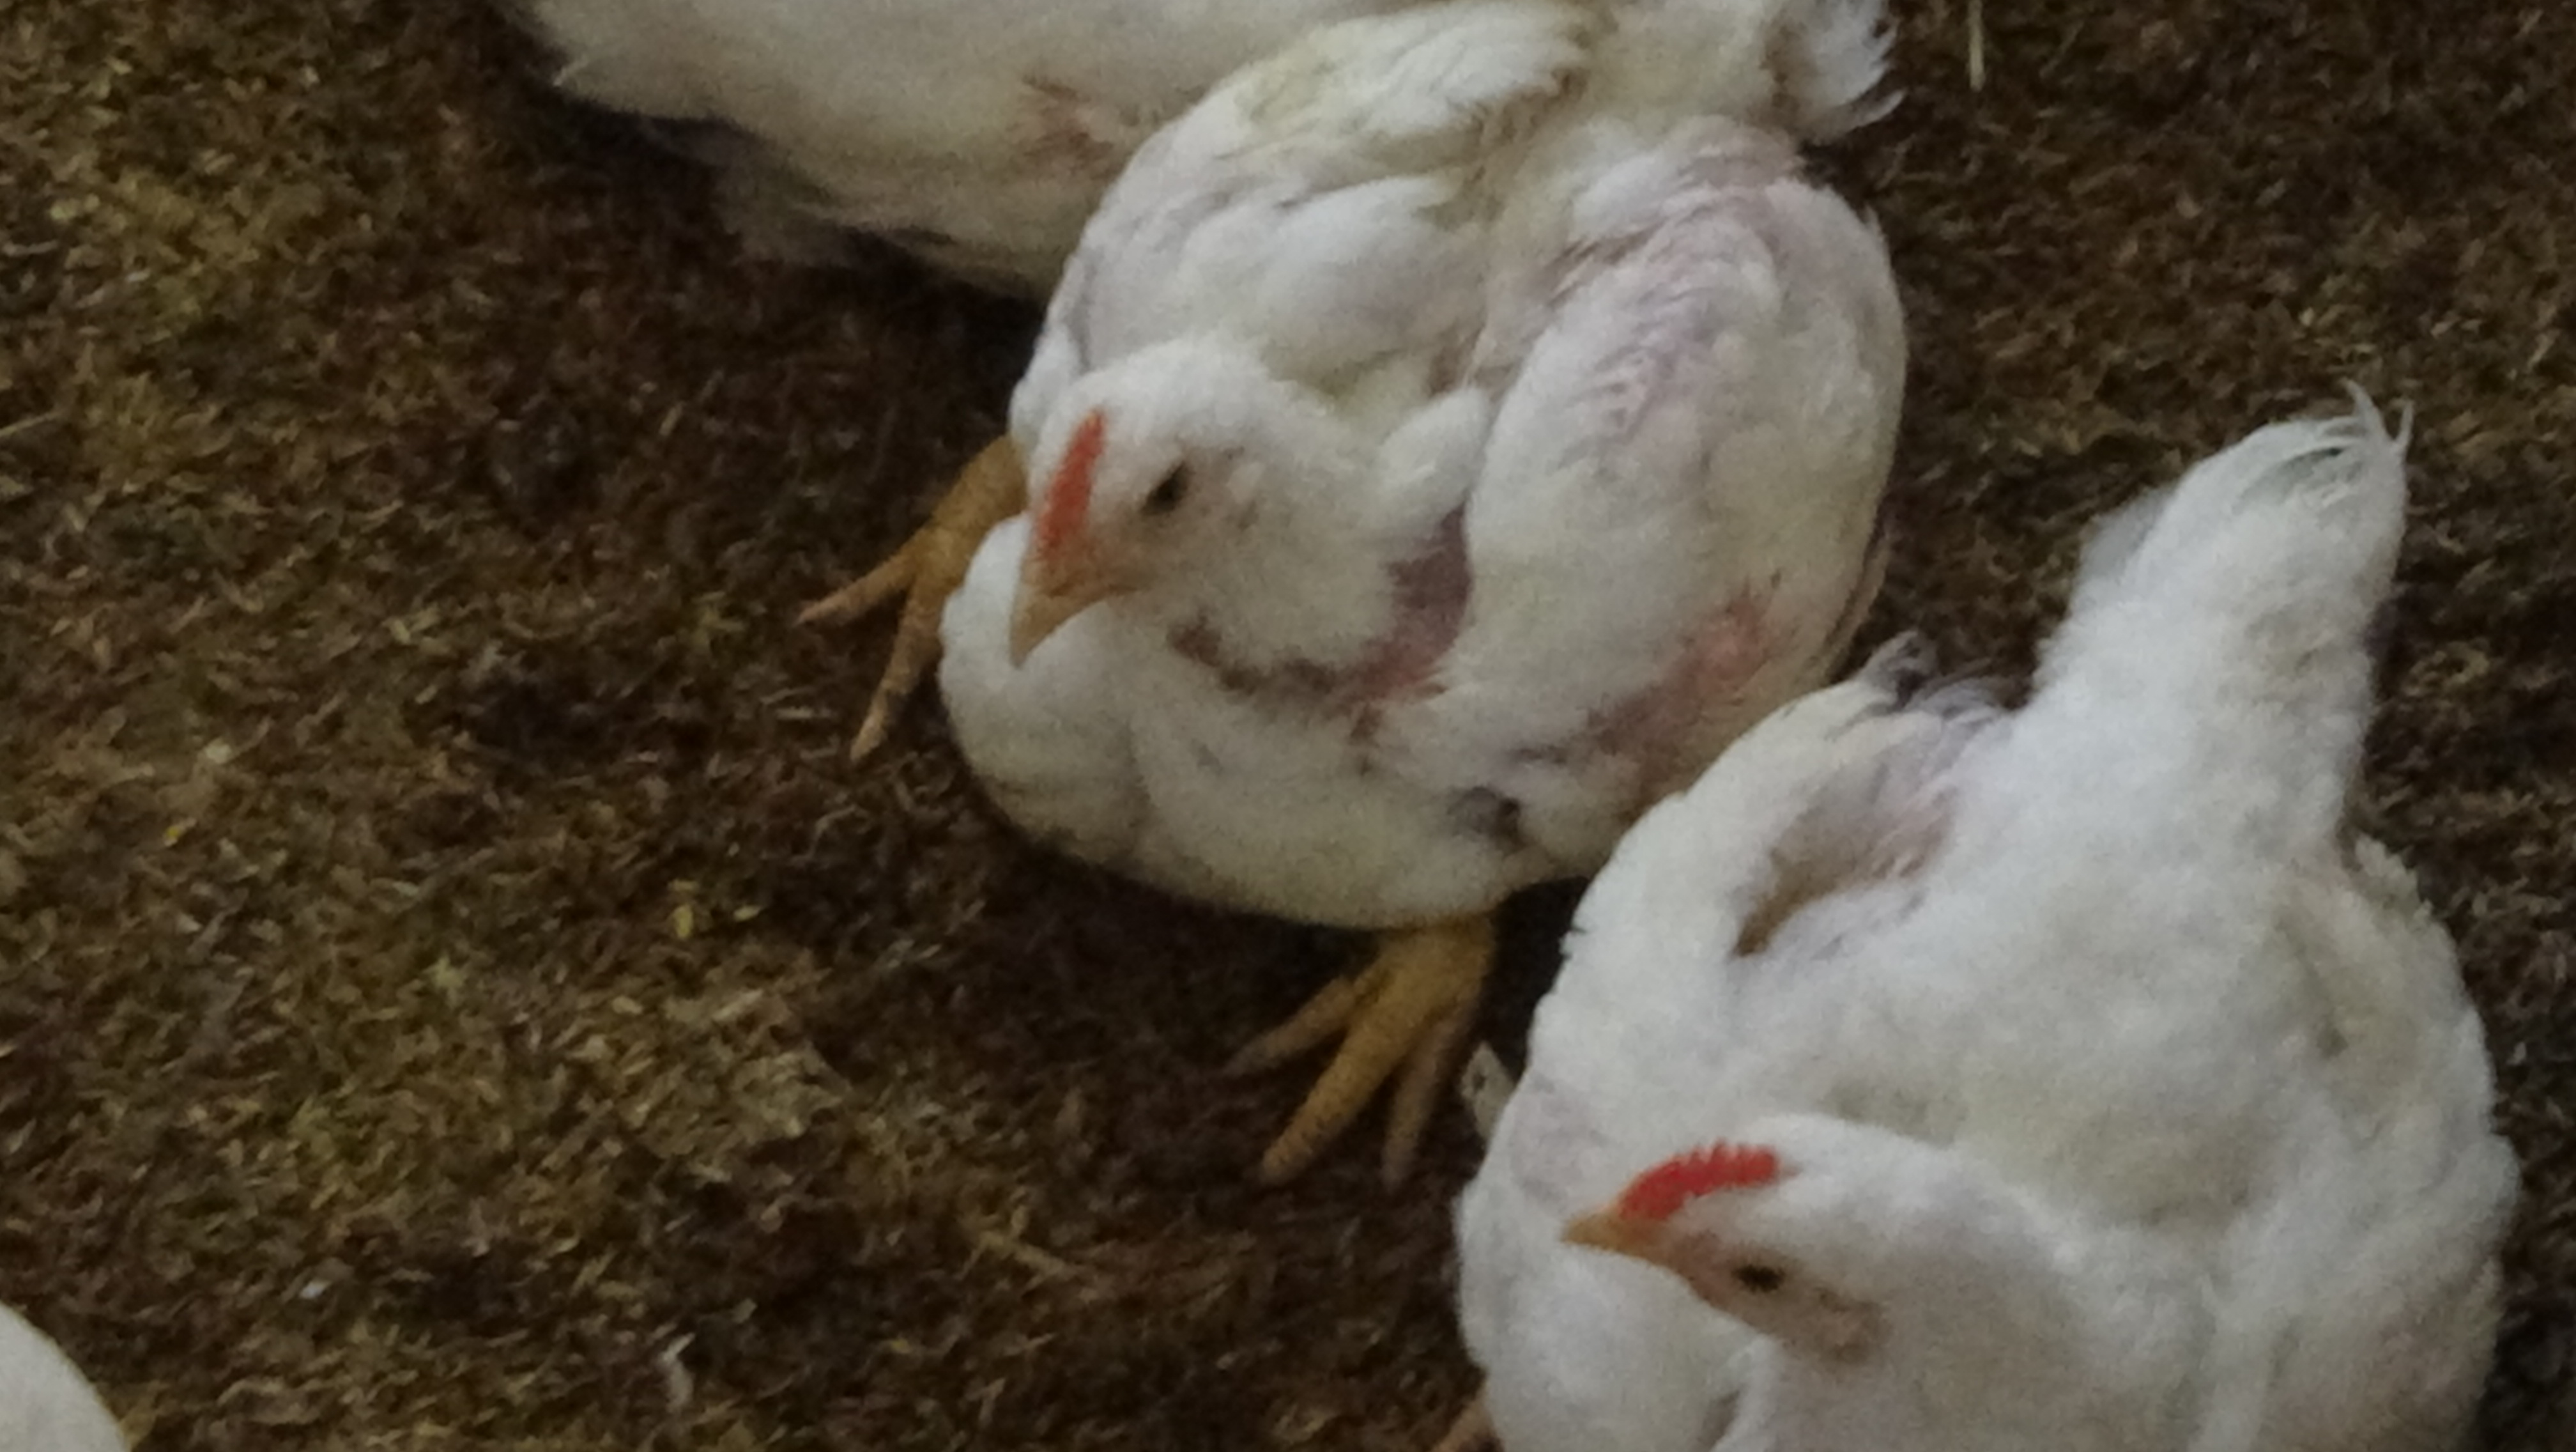Pollos: (810, 30, 1897, 1004), (1520, 551, 2523, 1452)
